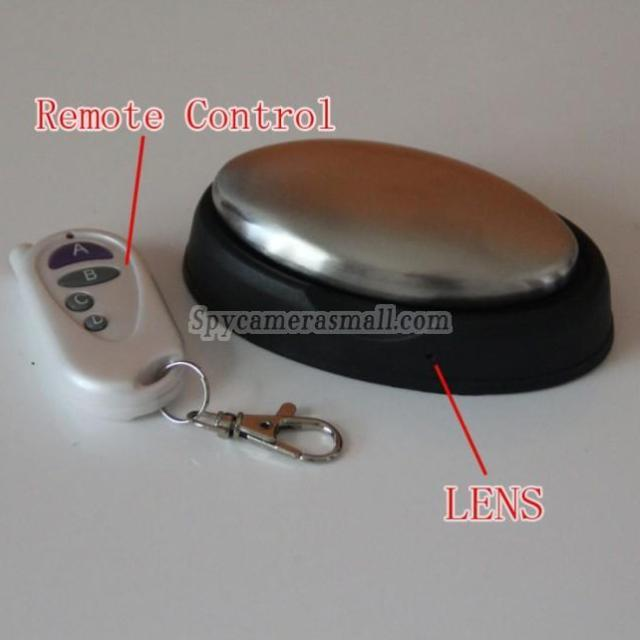hidden camera: (417, 344, 451, 374)
